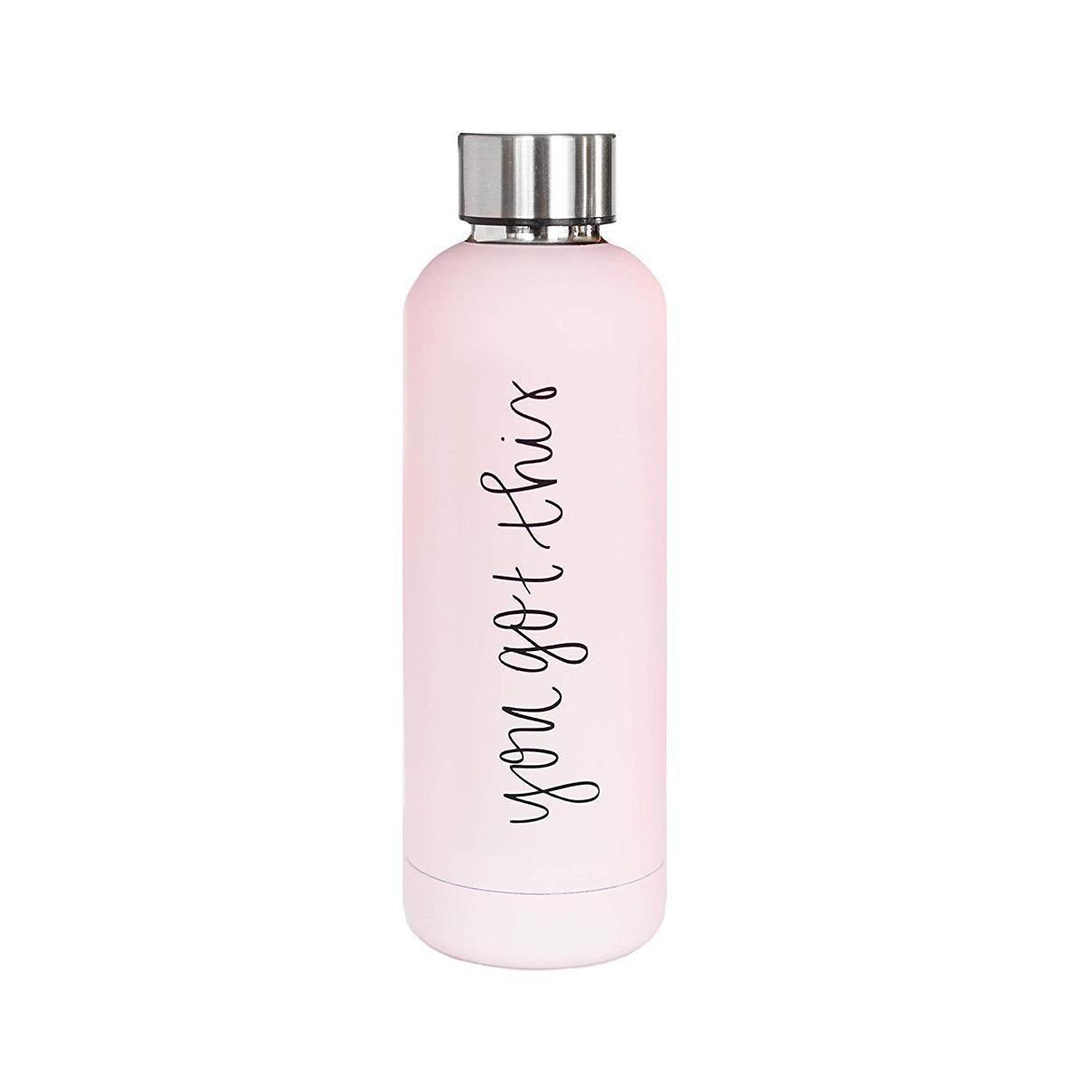gym bottle: (394, 118, 676, 973)
